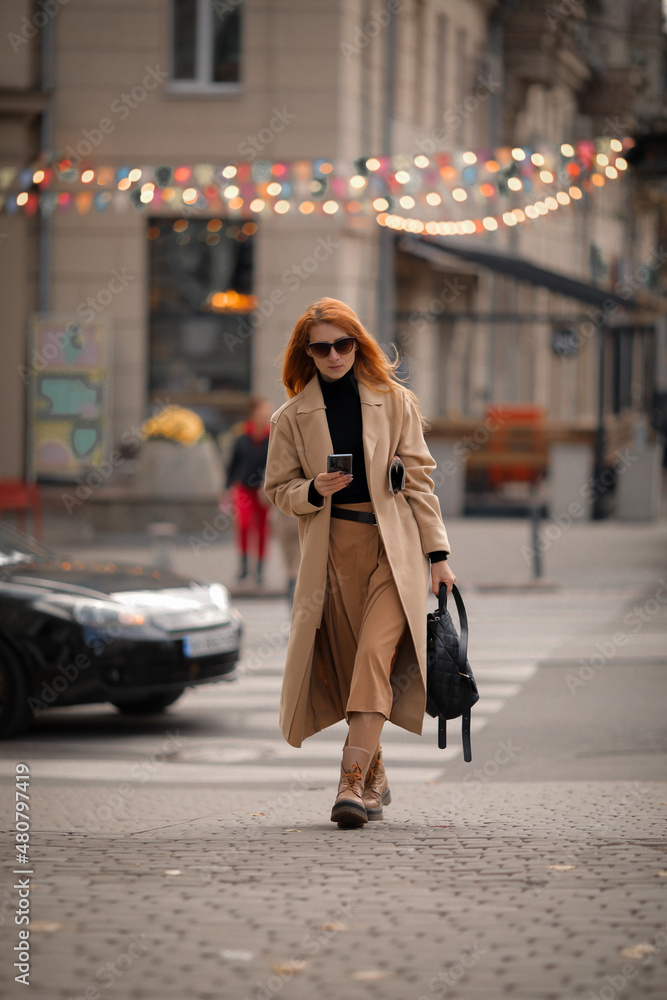person: (257, 297, 491, 842)
